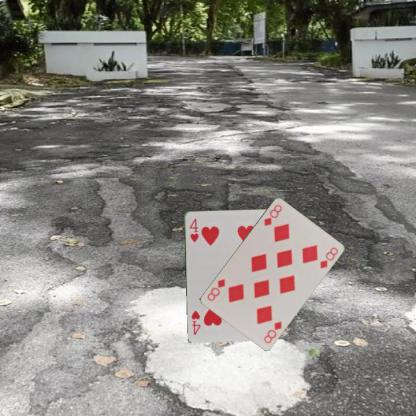4h: (187, 216, 200, 243)
8d: (261, 318, 283, 344), (261, 202, 283, 227)
